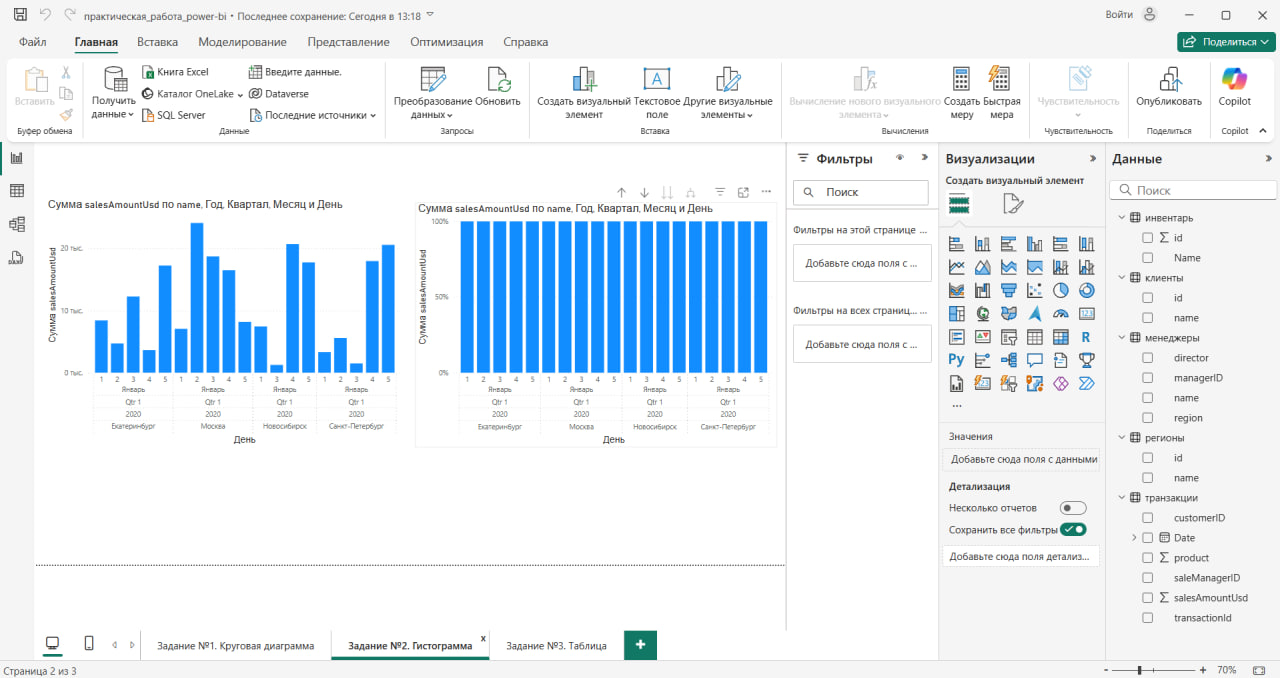

The page's visual inventory and layout, read from the dashboard file:
{"tool":"powerbi","page":{"name":"Задание №2. Гистограмма","canvas":[1280,720],"ordinal":1},"visuals":[{"type":"clusteredColumnChart","fields":{"Category":["регионы.name","транзакции.Date.Изменение.Иерархия дат.Год","транзакции.Date.Изменение.Иерархия дат.Квартал","транзакции.Date.Изменение.Иерархия дат.Месяц","транзакции.Date.Изменение.Иерархия дат.День"],"Y":["Sum(транзакции.salesAmountUsd)"]},"box":[18.5,95.1,611.8,425.8],"z":0},{"type":"hundredPercentStackedColumnChart","fields":{"Y":["Sum(транзакции.salesAmountUsd)"],"Category":["регионы.name","транзакции.Date.Изменение.Иерархия дат.Год","транзакции.Date.Изменение.Иерархия дат.Квартал","транзакции.Date.Изменение.Иерархия дат.Месяц","транзакции.Date.Изменение.Иерархия дат.День"]},"box":[648.7,102.2,616,418.7],"z":1}]}

Visuals, with their boxes on the page's 1280x720 design canvas (x1, y1, x2, y2). These are canvas units, not pixel positions in the 1280x678 screenshot, which may show the page scaled, cropped or inside an application window:
clusteredColumnChart - регионы.name x транзакции.Date.Изменение.Иерархия дат.Год: (x1=18, y1=95, x2=630, y2=521)
hundredPercentStackedColumnChart - Sum(транзакции.salesAmountUsd) x регионы.name: (x1=649, y1=102, x2=1265, y2=521)
